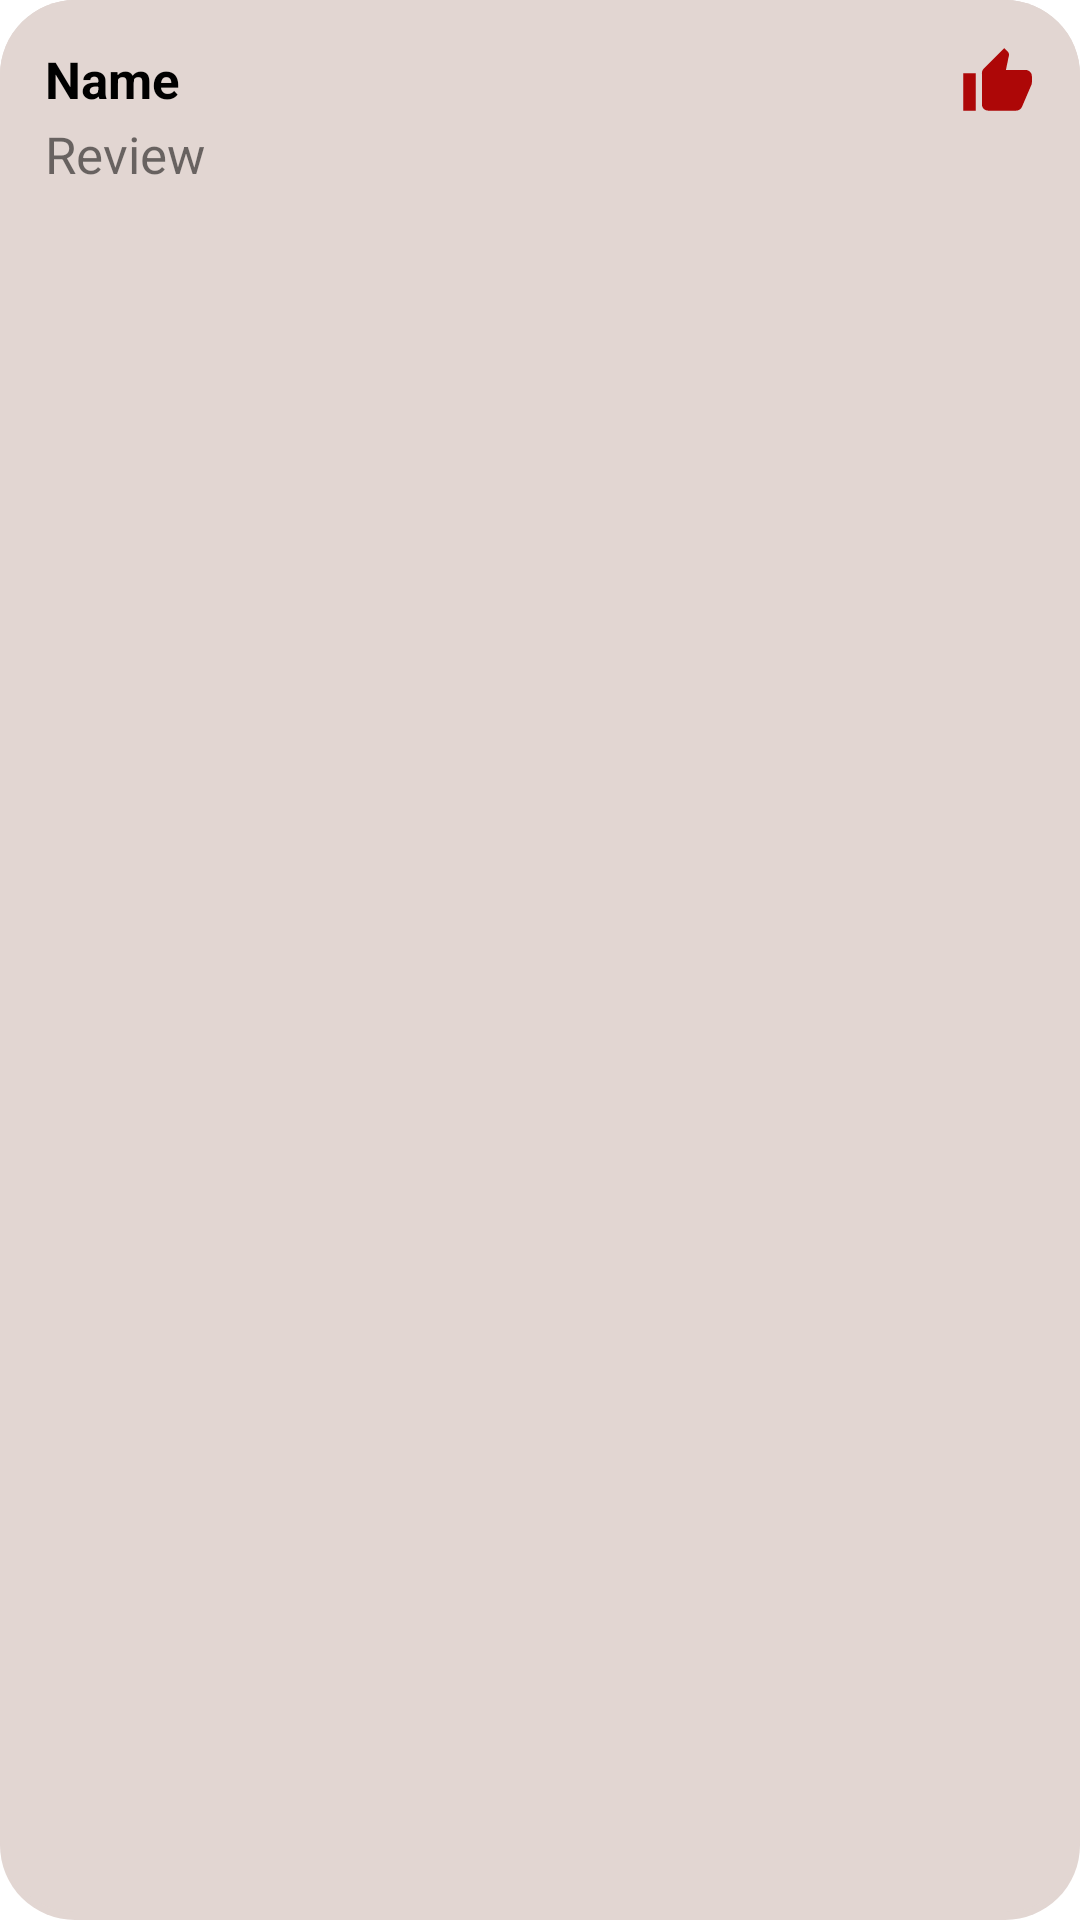

Named icons in this screenshot (1080 × 1920) and their bounding boxes, (x1, y1, x2, y2):
thumb up: (963, 48, 1032, 111)
